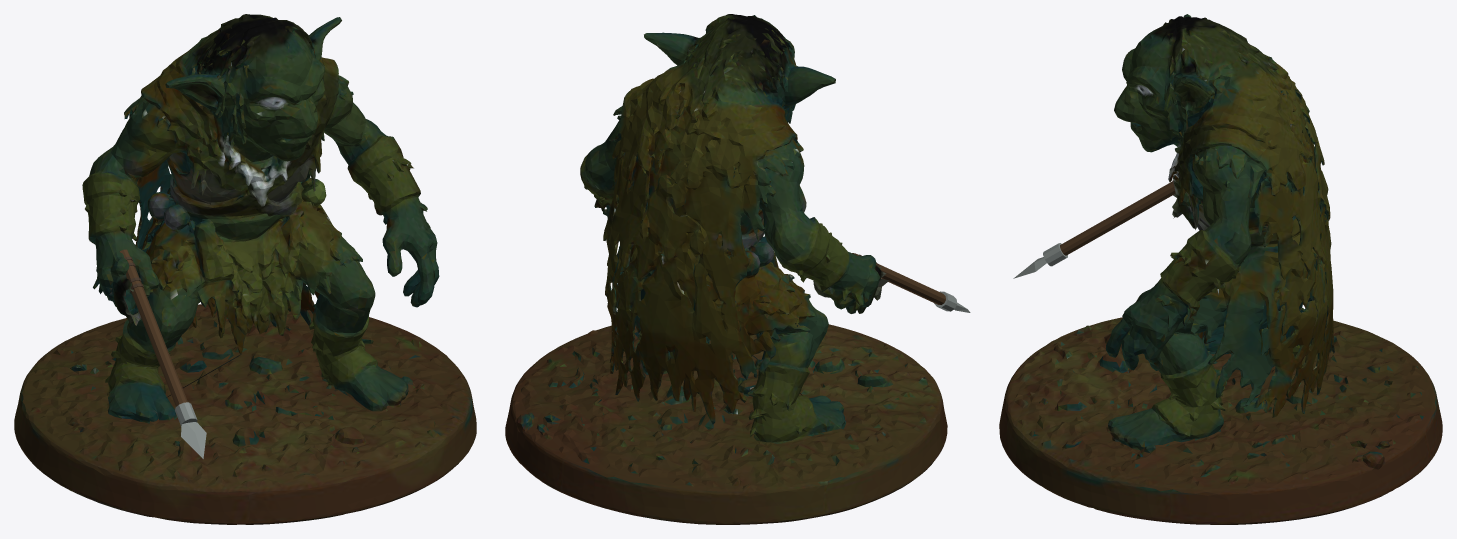
Rendered from goblinCombatente_lanca_curta_sem_escudo.glb.
The picture shows the model from 3 angles, left to right: view 1: azimuth 30°, elevation 25°; view 2: azimuth 150°, elevation 25°; view 3: azimuth 270°, elevation 25°; orthographic projection. The views are drawn at different scales.
Parts seen in each view (by area): view 1: goblinCombatente_lanca_curta_sem_escudo; view 2: goblinCombatente_lanca_curta_sem_escudo; view 3: goblinCombatente_lanca_curta_sem_escudo.
Boxes of the visible parts, box(x1,y1,x2,y2) form: goblinCombatente_lanca_curta_sem_escudo: box(14, 14, 476, 524); goblinCombatente_lanca_curta_sem_escudo: box(505, 14, 970, 524); goblinCombatente_lanca_curta_sem_escudo: box(999, 14, 1442, 524).
Size of the model in its own units: 1.94 by 1.96 by 1.91.
4 materials, 1 textured.
